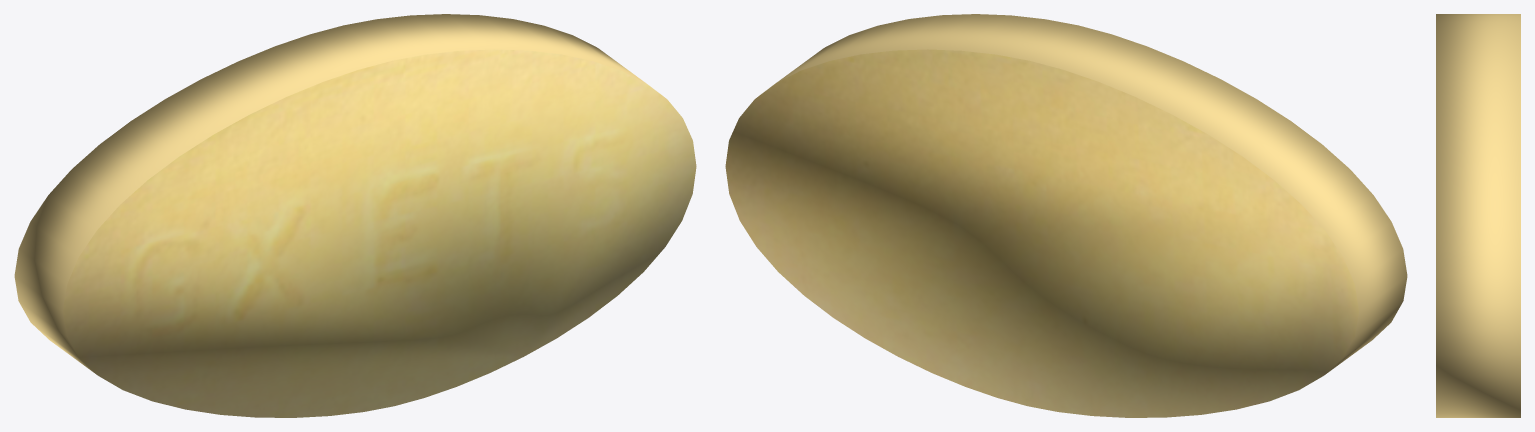
File: 20151222GOPHDRGPT36647.fbx
3 views of the same model, side by side, from view 1: azimuth 30°, elevation 25°; view 2: azimuth 150°, elevation 25°; view 3: azimuth 270°, elevation 25° (orthographic). The views are drawn at different scales.
Parts seen in each view (by area): view 1: 貝茲曲線.002; view 2: 貝茲曲線.002; view 3: 貝茲曲線.002.
Part boxes in pixels (<box>): 貝茲曲線.002: <box>14,14,696,417</box>; 貝茲曲線.002: <box>725,14,1407,417</box>; 貝茲曲線.002: <box>1436,14,1520,417</box>.
Size of the model in its own units: 81.46 by 42.51 by 10.79.
